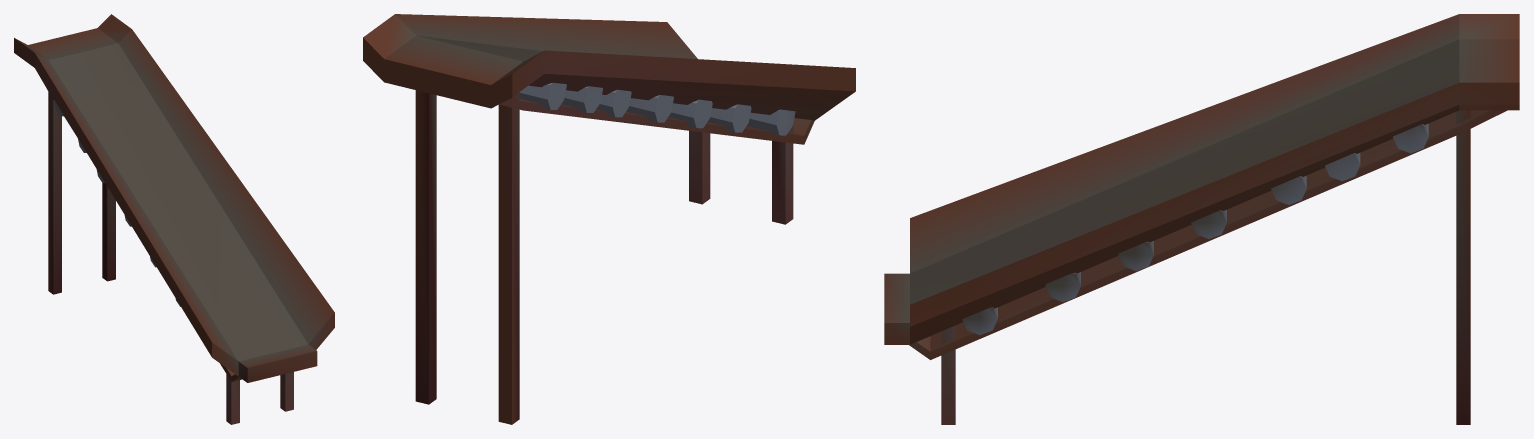
The model's file is Esteira.fbx.
The picture shows the model from 3 angles, left to right: view 1: azimuth 30°, elevation 25°; view 2: azimuth 150°, elevation 25°; view 3: azimuth 270°, elevation 25°; orthographic projection. The views are drawn at different scales.
Parts seen in each view (by area): view 1: LOD_0; view 2: LOD_0; view 3: LOD_0.
Part boxes in pixels (x1,y1,x2,y2): LOD_0: [14, 14, 334, 424]; LOD_0: [363, 14, 855, 424]; LOD_0: [884, 14, 1519, 424].
Size of what is drawn, in the model's own units: 353 by 672 by 1093.
